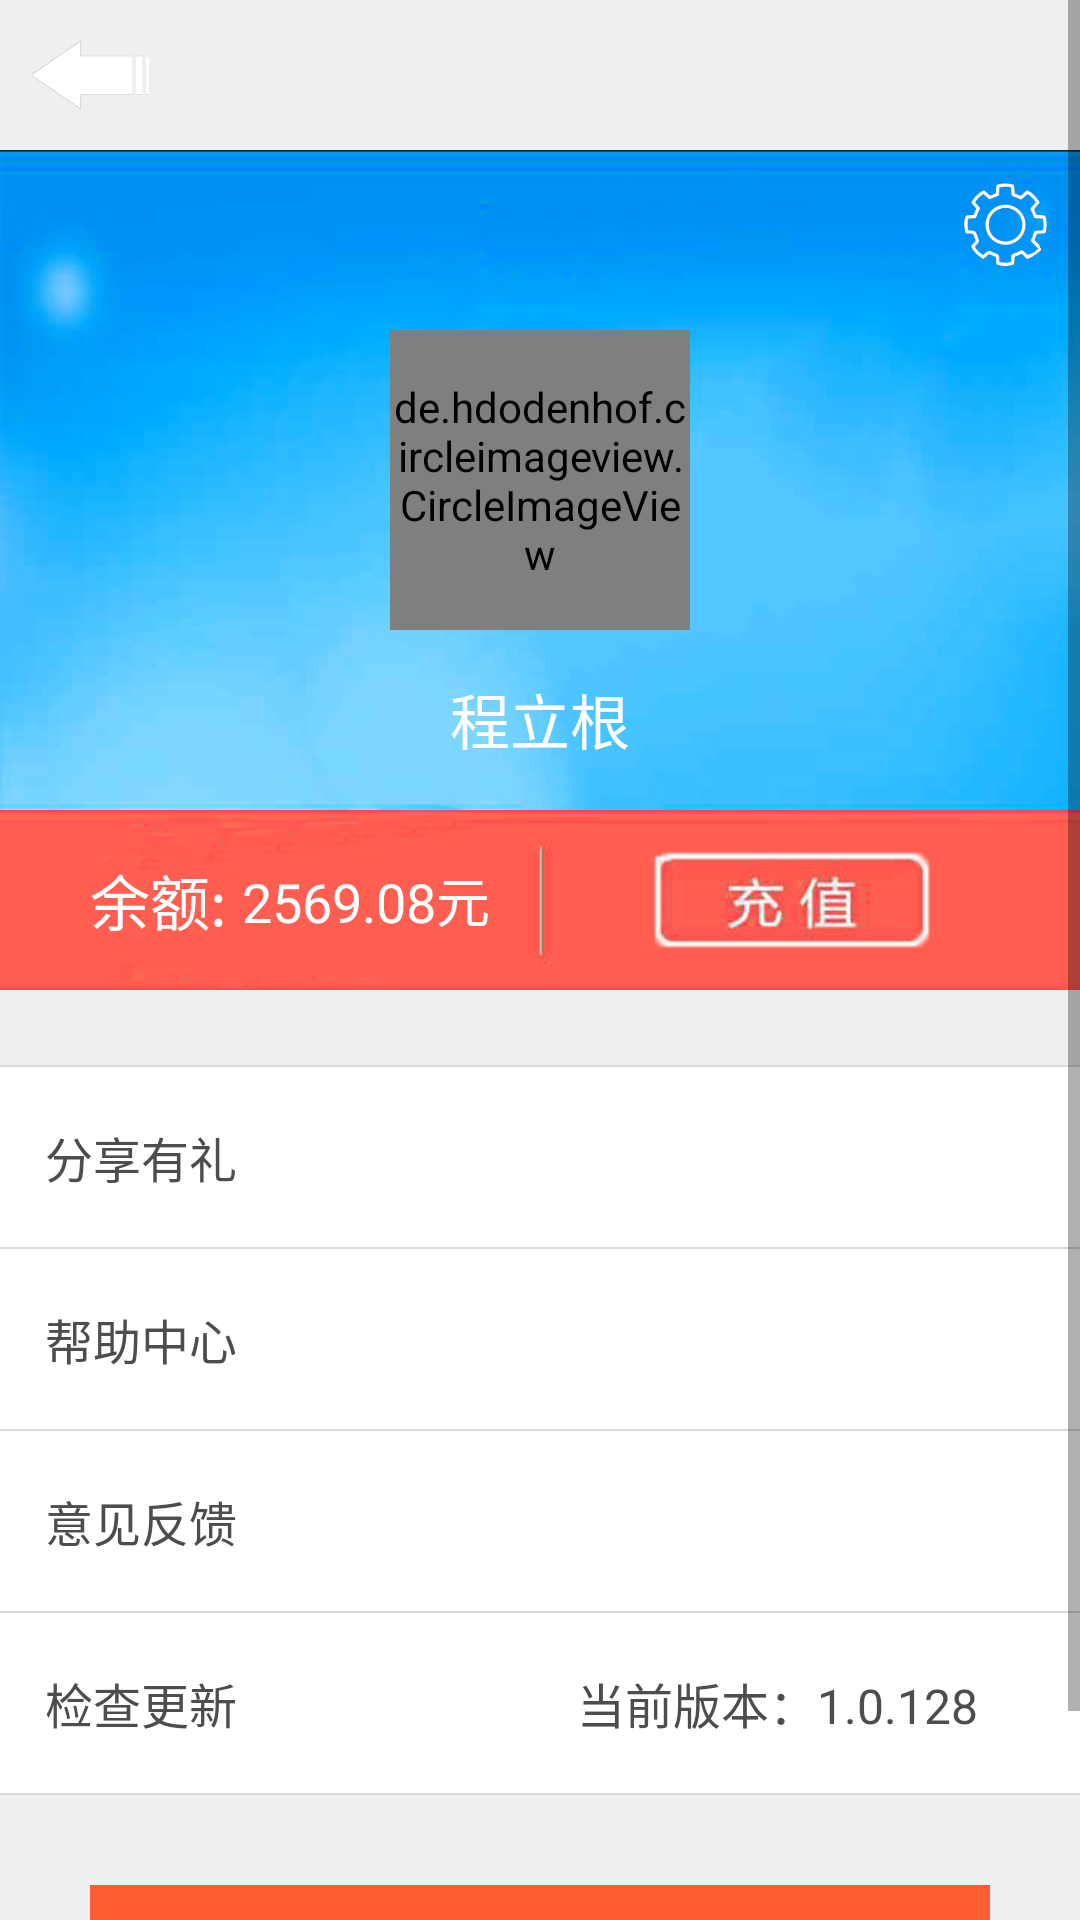

Named icons in this screenshot (1080px×1920px) and their bounding boxes, box=[x1, y1, x2, y2]:
back: box=[33, 41, 81, 109]
set: box=[964, 183, 1047, 267]
